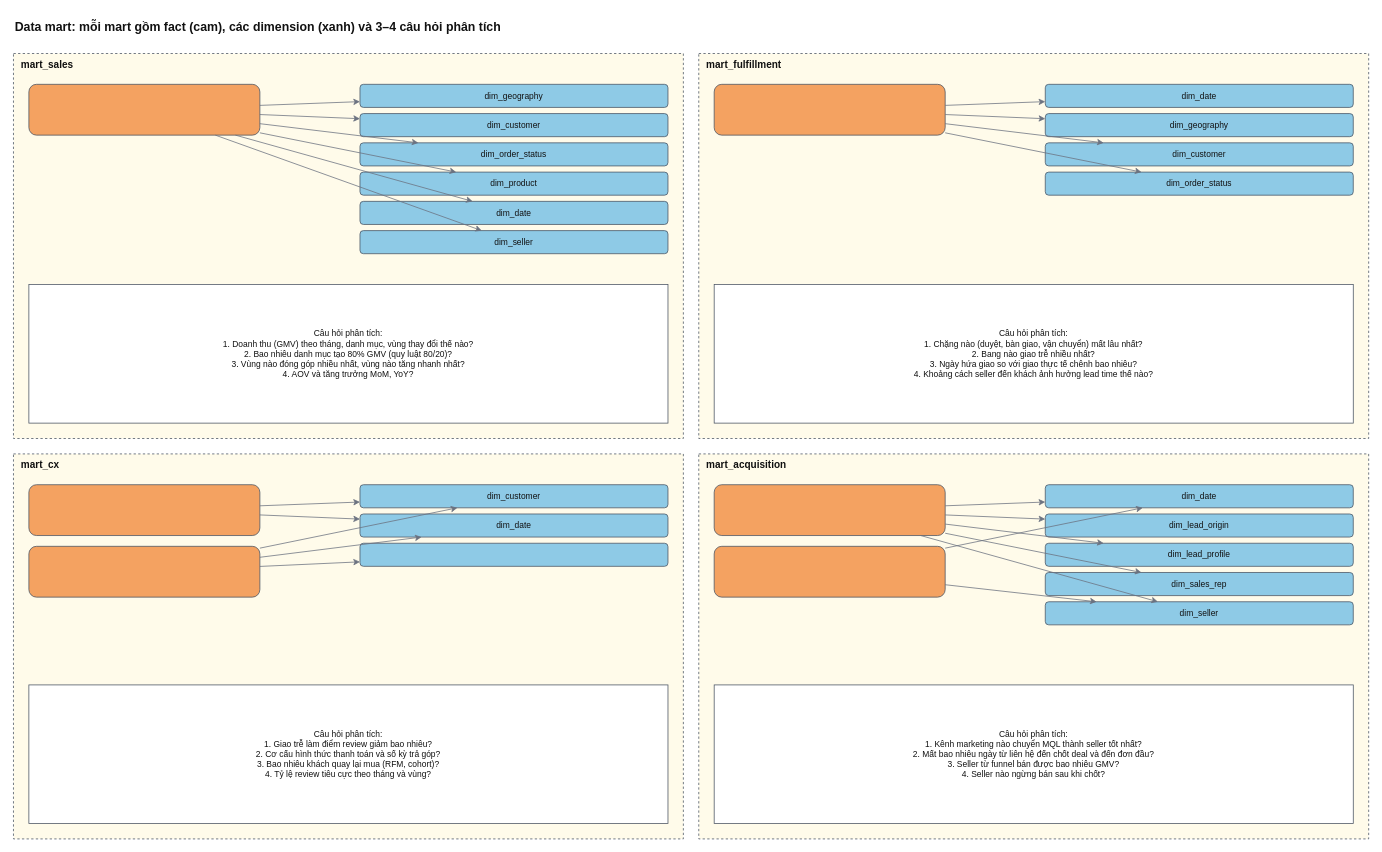
Some shapes in this 1382 by 852 pixel diagram are drawn without their labels. The centre of each missing label's shape, as x and y in pixels:
dim_payment_type: (513,554)
fact_lead_funnel Thu hút seller · snapshot tích luỹ 1 khách tiềm năng (MQL): (829,510)
fact_order_fulfillment Xử lý đơn · snapshot tích luỹ 1 đơn, 5 mốc thời gian: (829,109)
fact_order_item Bán hàng · transaction 1 dòng hàng của 1 đơn: (144,109)
fact_payment Thanh toán · transaction 1 lần thanh toán: (144,571)
fact_review Đánh giá · transaction 1 review của 1 đơn: (144,510)
fact_seller_monthly Hiệu suất seller · snapshot định kỳ 1 seller × 1 tháng: (829,571)
